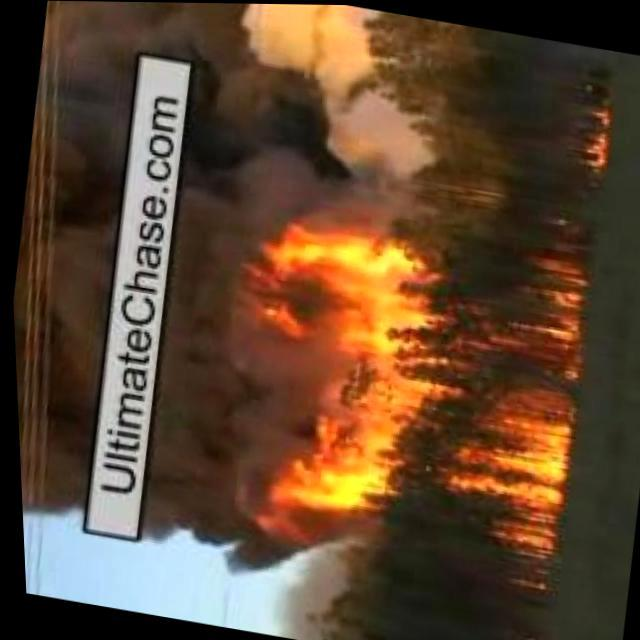fire: (219, 202, 595, 590), (568, 94, 614, 180)
